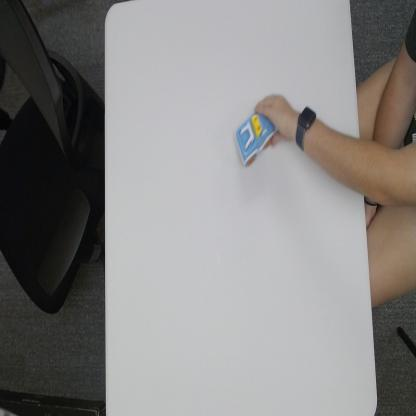Arm: (316, 120, 360, 192)
Car: (236, 111, 276, 168)
Hand: (255, 91, 294, 148)
